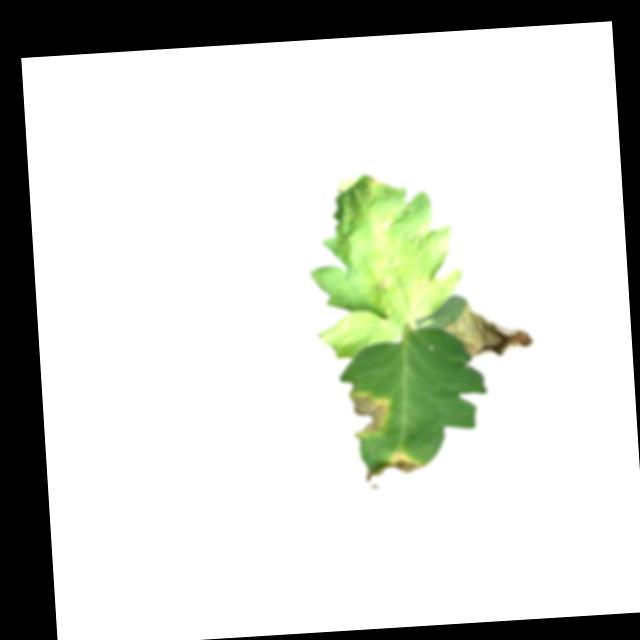Late_blight: (442, 296, 537, 364), (346, 387, 394, 439), (365, 449, 424, 489), (365, 272, 395, 297), (359, 174, 385, 202), (375, 207, 397, 233)
